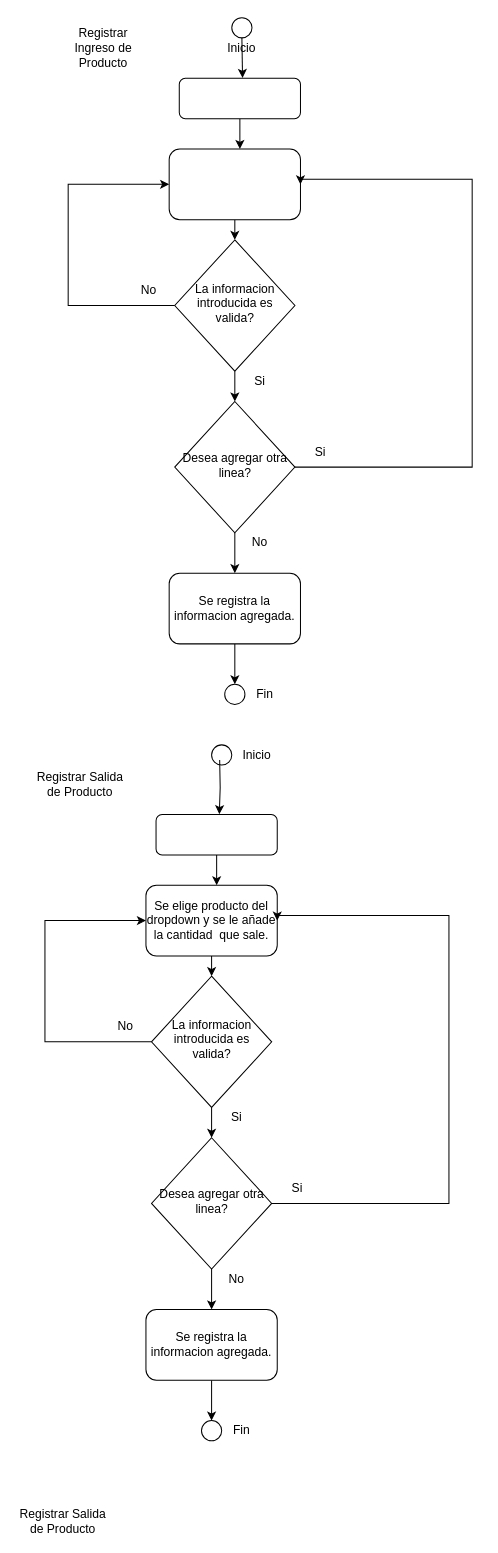
Some shapes in this 498 by 1553 pixel diagram are drawn without their labels. Each missing label, with the centre of its shape:
"El usuario desea registrar el ingreso de productos al sistema" goes at pixel 239 98.
"El usuario desea registrar la salida de productos al sistema" goes at pixel 216 834.
"Se elige producto del dropdown y se le añade la cantidad que se esta agregando." goes at pixel 234 184.
